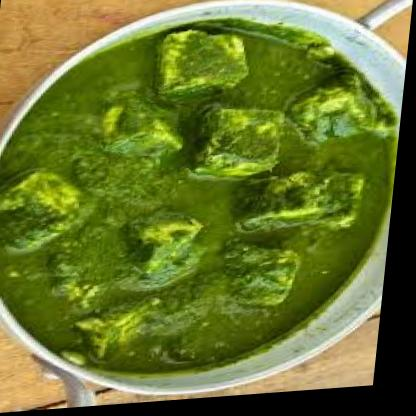palak_paneer: (0, 12, 413, 390)
